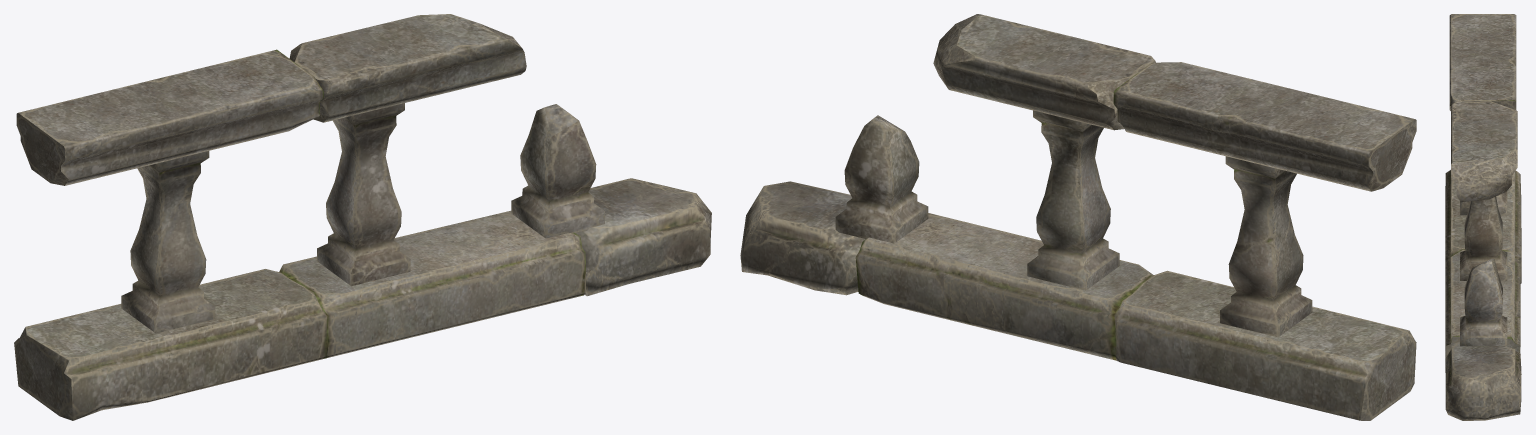
The model's file is SM_Ballustrade_Ruined_05.fbx.
3 views of the same model, side by side, from view 1: azimuth 30°, elevation 25°; view 2: azimuth 150°, elevation 25°; view 3: azimuth 270°, elevation 25° (orthographic). The views are drawn at different scales.
Parts seen in each view (by area): view 1: SM_Ballustrade_Ruined_05_LOD0; view 2: SM_Ballustrade_Ruined_05_LOD0; view 3: SM_Ballustrade_Ruined_05_LOD0.
Part boxes in pixels (x1,y1,x2,y2): SM_Ballustrade_Ruined_05_LOD0: [14, 14, 711, 420]; SM_Ballustrade_Ruined_05_LOD0: [740, 14, 1416, 420]; SM_Ballustrade_Ruined_05_LOD0: [1445, 14, 1521, 420].
Size of what is drawn, in the model's own units: 254 by 101 by 37.19.
